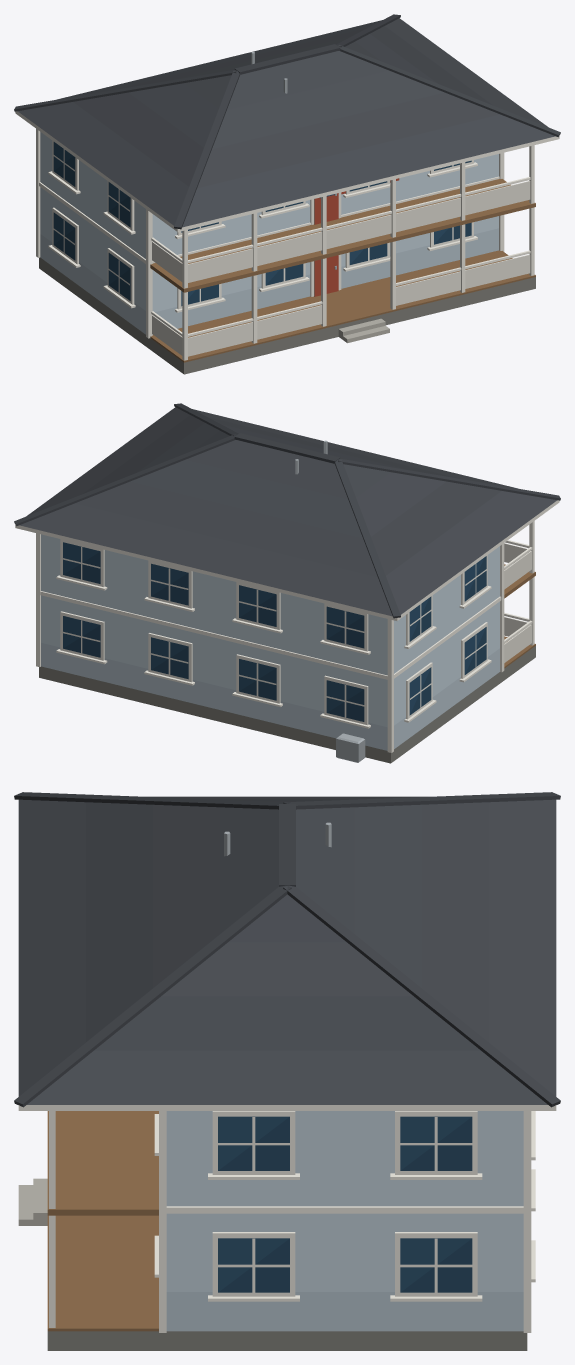
The model's file is house_14x10_2f.glb.
3 views of the same model, one above another, from view 1: azimuth 30°, elevation 25°; view 2: azimuth 150°, elevation 25°; view 3: azimuth 270°, elevation 25° (orthographic). The views are drawn at different scales.
Parts seen in each view (by area): view 1: house; view 2: house; view 3: house.
Part boxes in pixels (box(x1,y1,x2,y2)): house: box(14, 14, 560, 374); house: box(14, 403, 560, 763); house: box(14, 792, 560, 1350).
Size of the model in its own units: 15.4 by 8.45 by 11.4.
